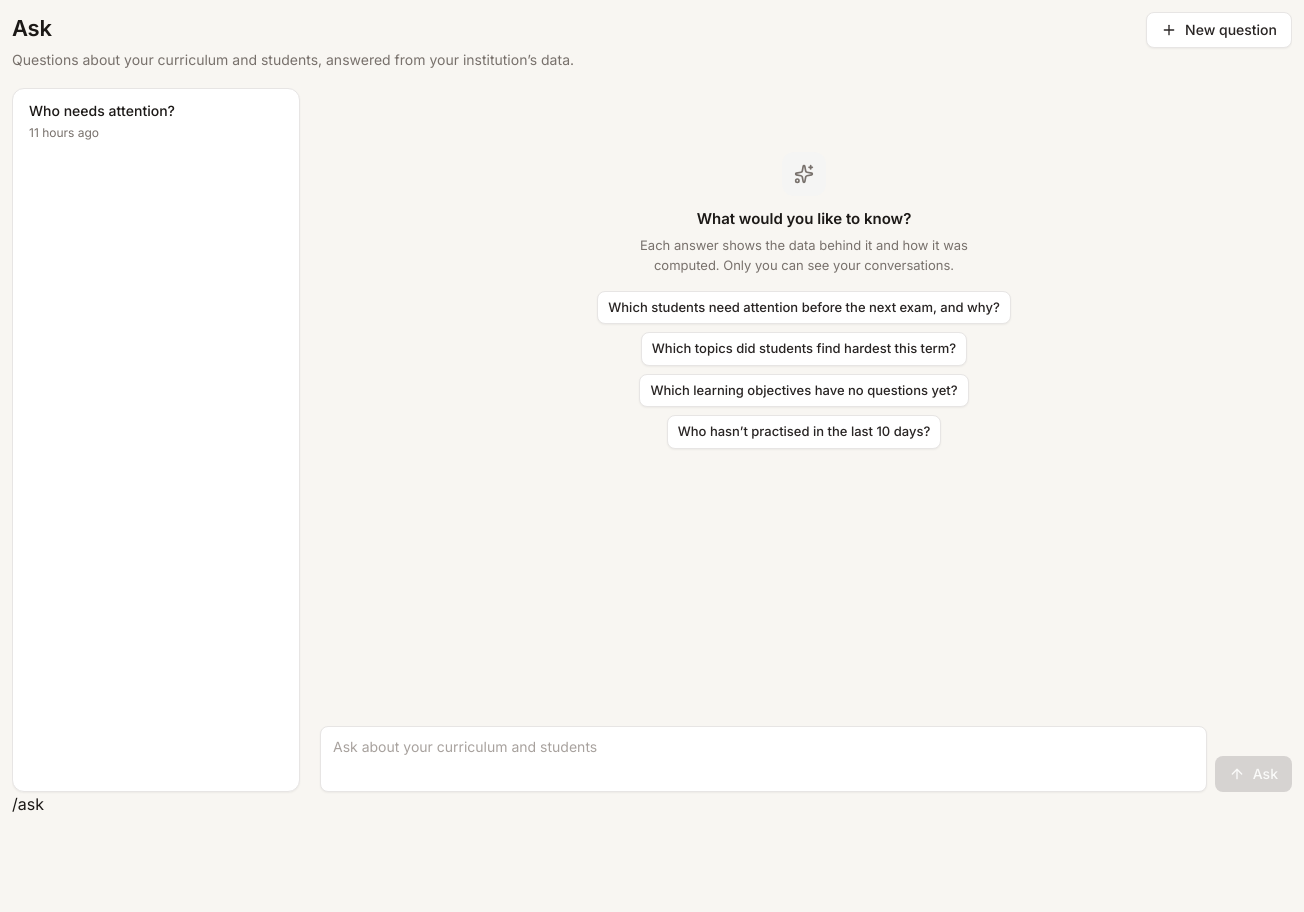
reopening a thread › opens a listed thread in place, with its table and chart
The image size is (1304, 912).
Click the button "Who needs attention? 11 hours ago".
click(156, 121)  # box [13,89,299,153]
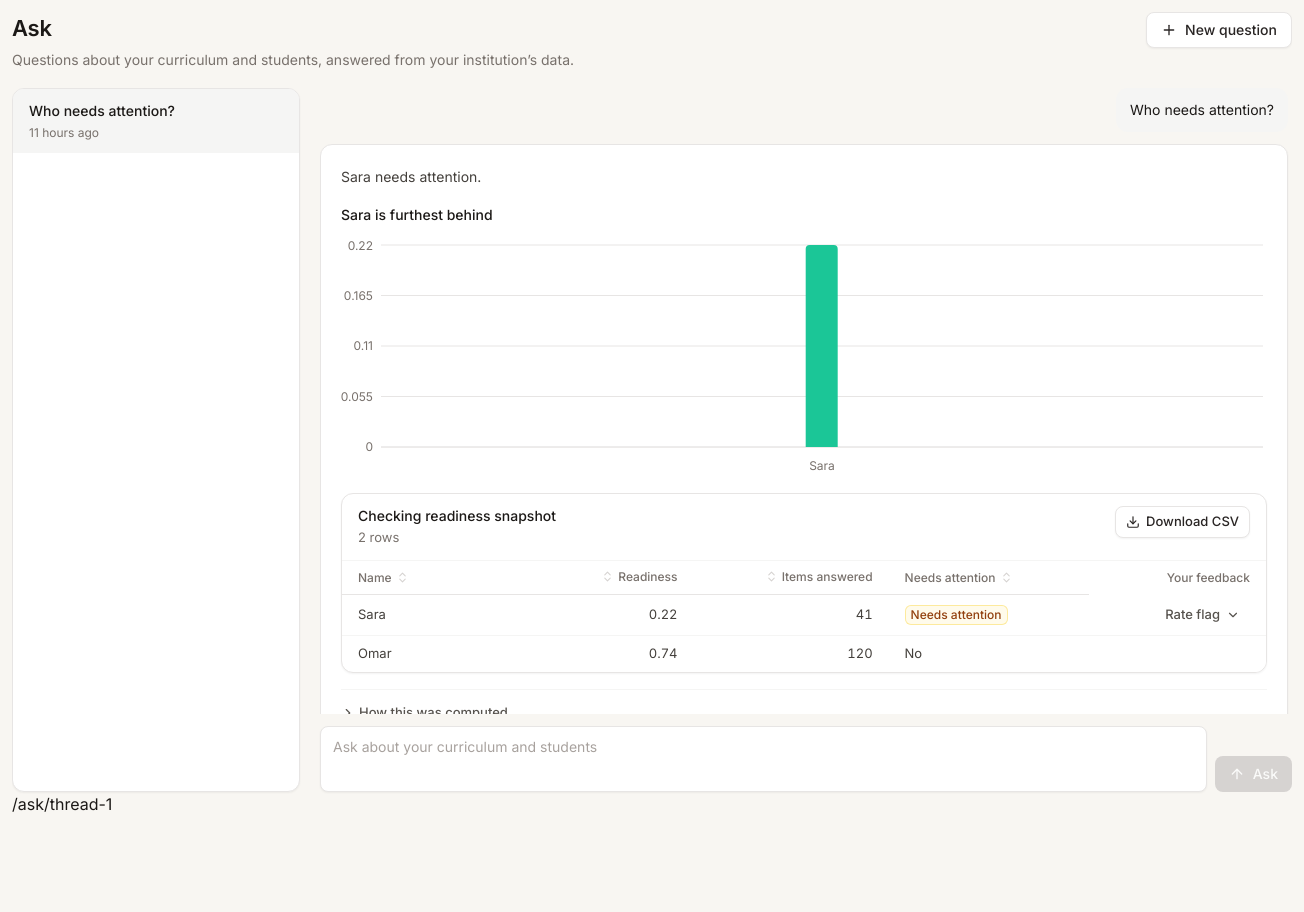
expect the text "Sara needs attention." is shown: met, box [341,168,481,185]
expect the text with test id "where" reads "/ask/thread-1": met, box [12,794,112,814]
expect the table is shown: met, box [342,560,1266,672]
